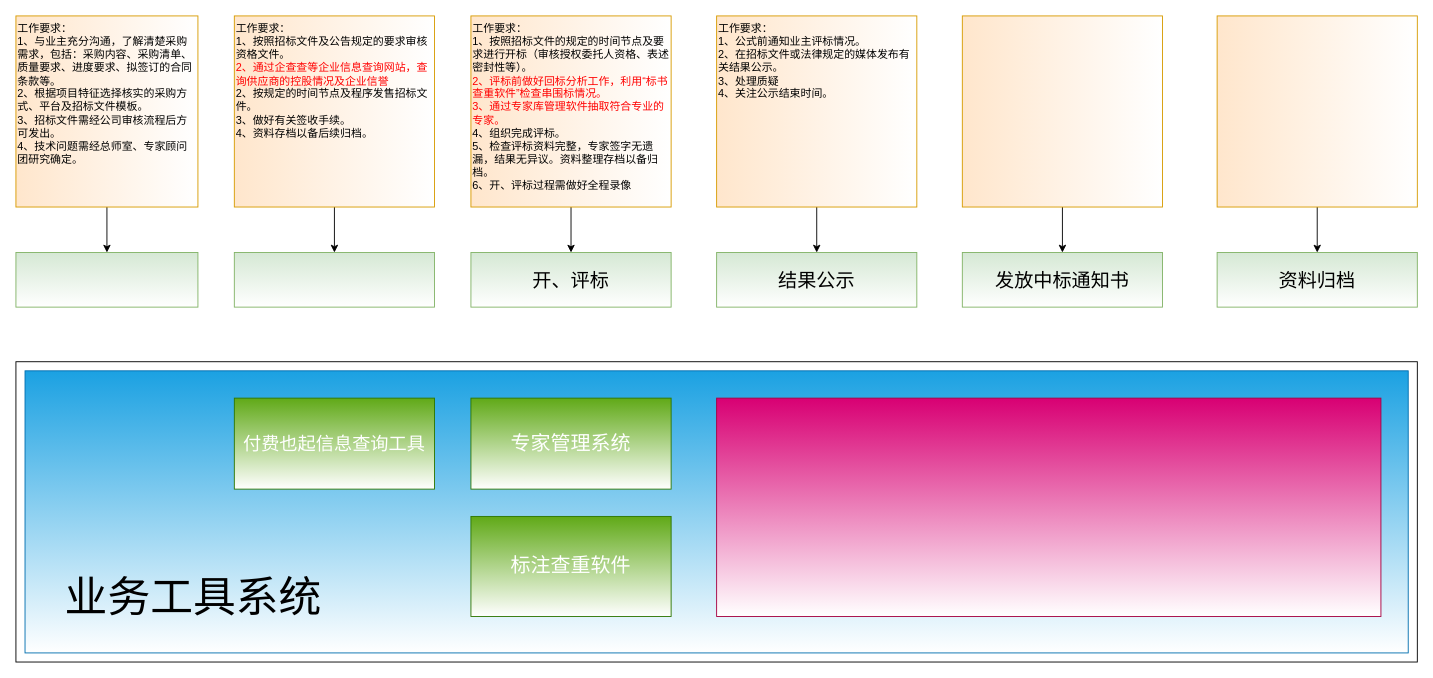
This 1433x678 diagram has some shape labels left out. The shapes that lost their labels are listed below. From the top down, each one's box as (x1, y1, x2, y2) in pixels, then its label:
(961, 15, 1163, 207): 工作要求： 1、根据评审结论编写中标通知书、中标结果通知书。 2、及时发放给供应商及业主。 3、协助业主签订合同。
(1216, 15, 1417, 207): 工作要求： 1、根据《项目资料归档清单》对招标资料整理成册。 2、完成公司档案资料审查流程。 3、资料递送业主及存入公司档案室。 4、做好相关签收工作。
(15, 252, 198, 307): 需求对接、招标文件编制
(233, 252, 435, 307): 发售招标文件
(716, 397, 1381, 617): 业务OSA管理系统
